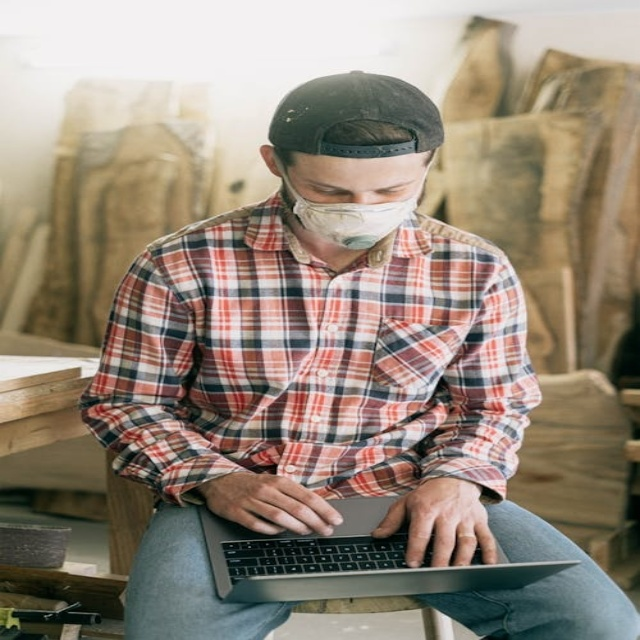Mascara: (281, 159, 425, 250)
Sin_gafas: (294, 172, 416, 202)
Sin_guantes: (370, 476, 497, 568), (202, 471, 345, 538)
